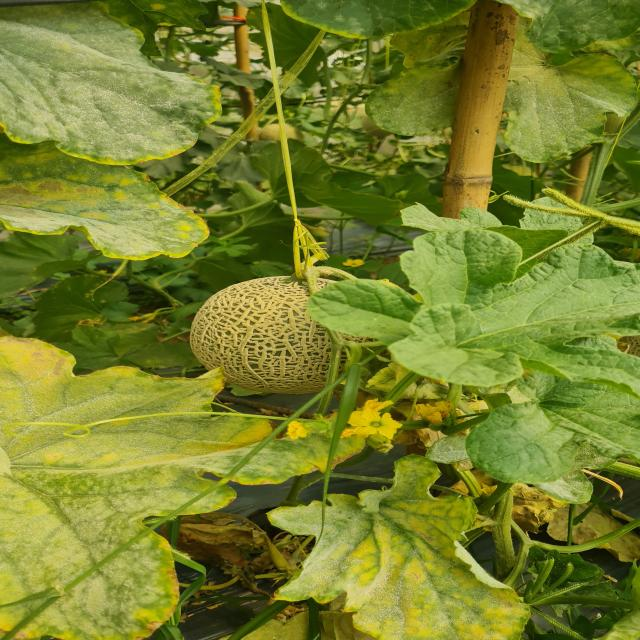melon: (191, 276, 331, 394)
